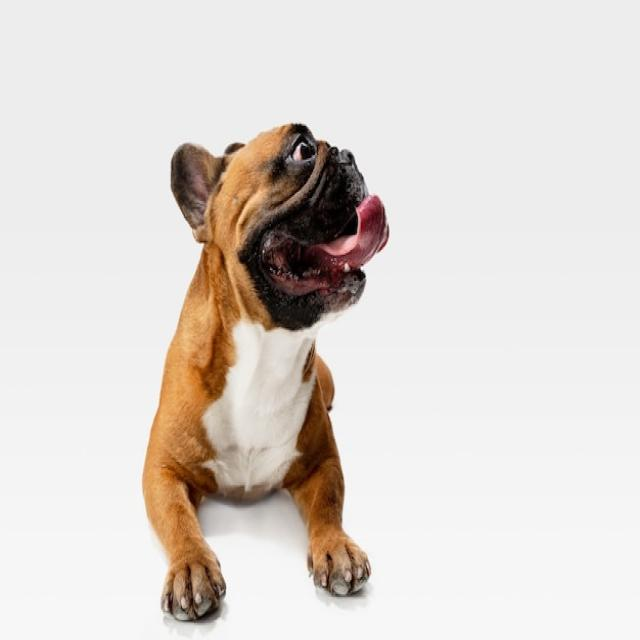Dog: (140, 120, 390, 620)
